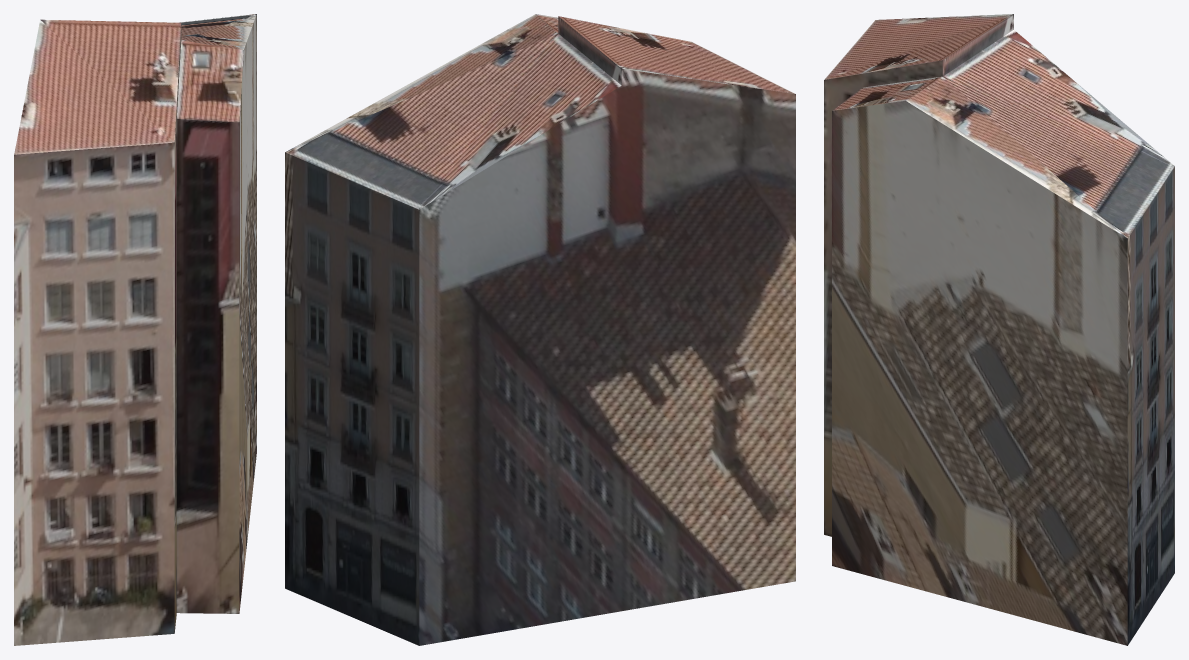
3 renders of one model, left to right at view 1: azimuth 30°, elevation 25°; view 2: azimuth 150°, elevation 25°; view 3: azimuth 270°, elevation 25°, orthographic. The views are drawn at different scales.
Parts seen in each view (by area): view 1: Z_UP; view 2: Z_UP; view 3: Z_UP.
Boxes of the visible parts, bbox=[...] form: Z_UP: bbox=[14, 14, 256, 645]; Z_UP: bbox=[285, 14, 795, 645]; Z_UP: bbox=[824, 14, 1174, 645].
Bounding box in the file's own units: 19.94 × 27.51 × 17.27.
Materials: 2 (1 with a texture image).
